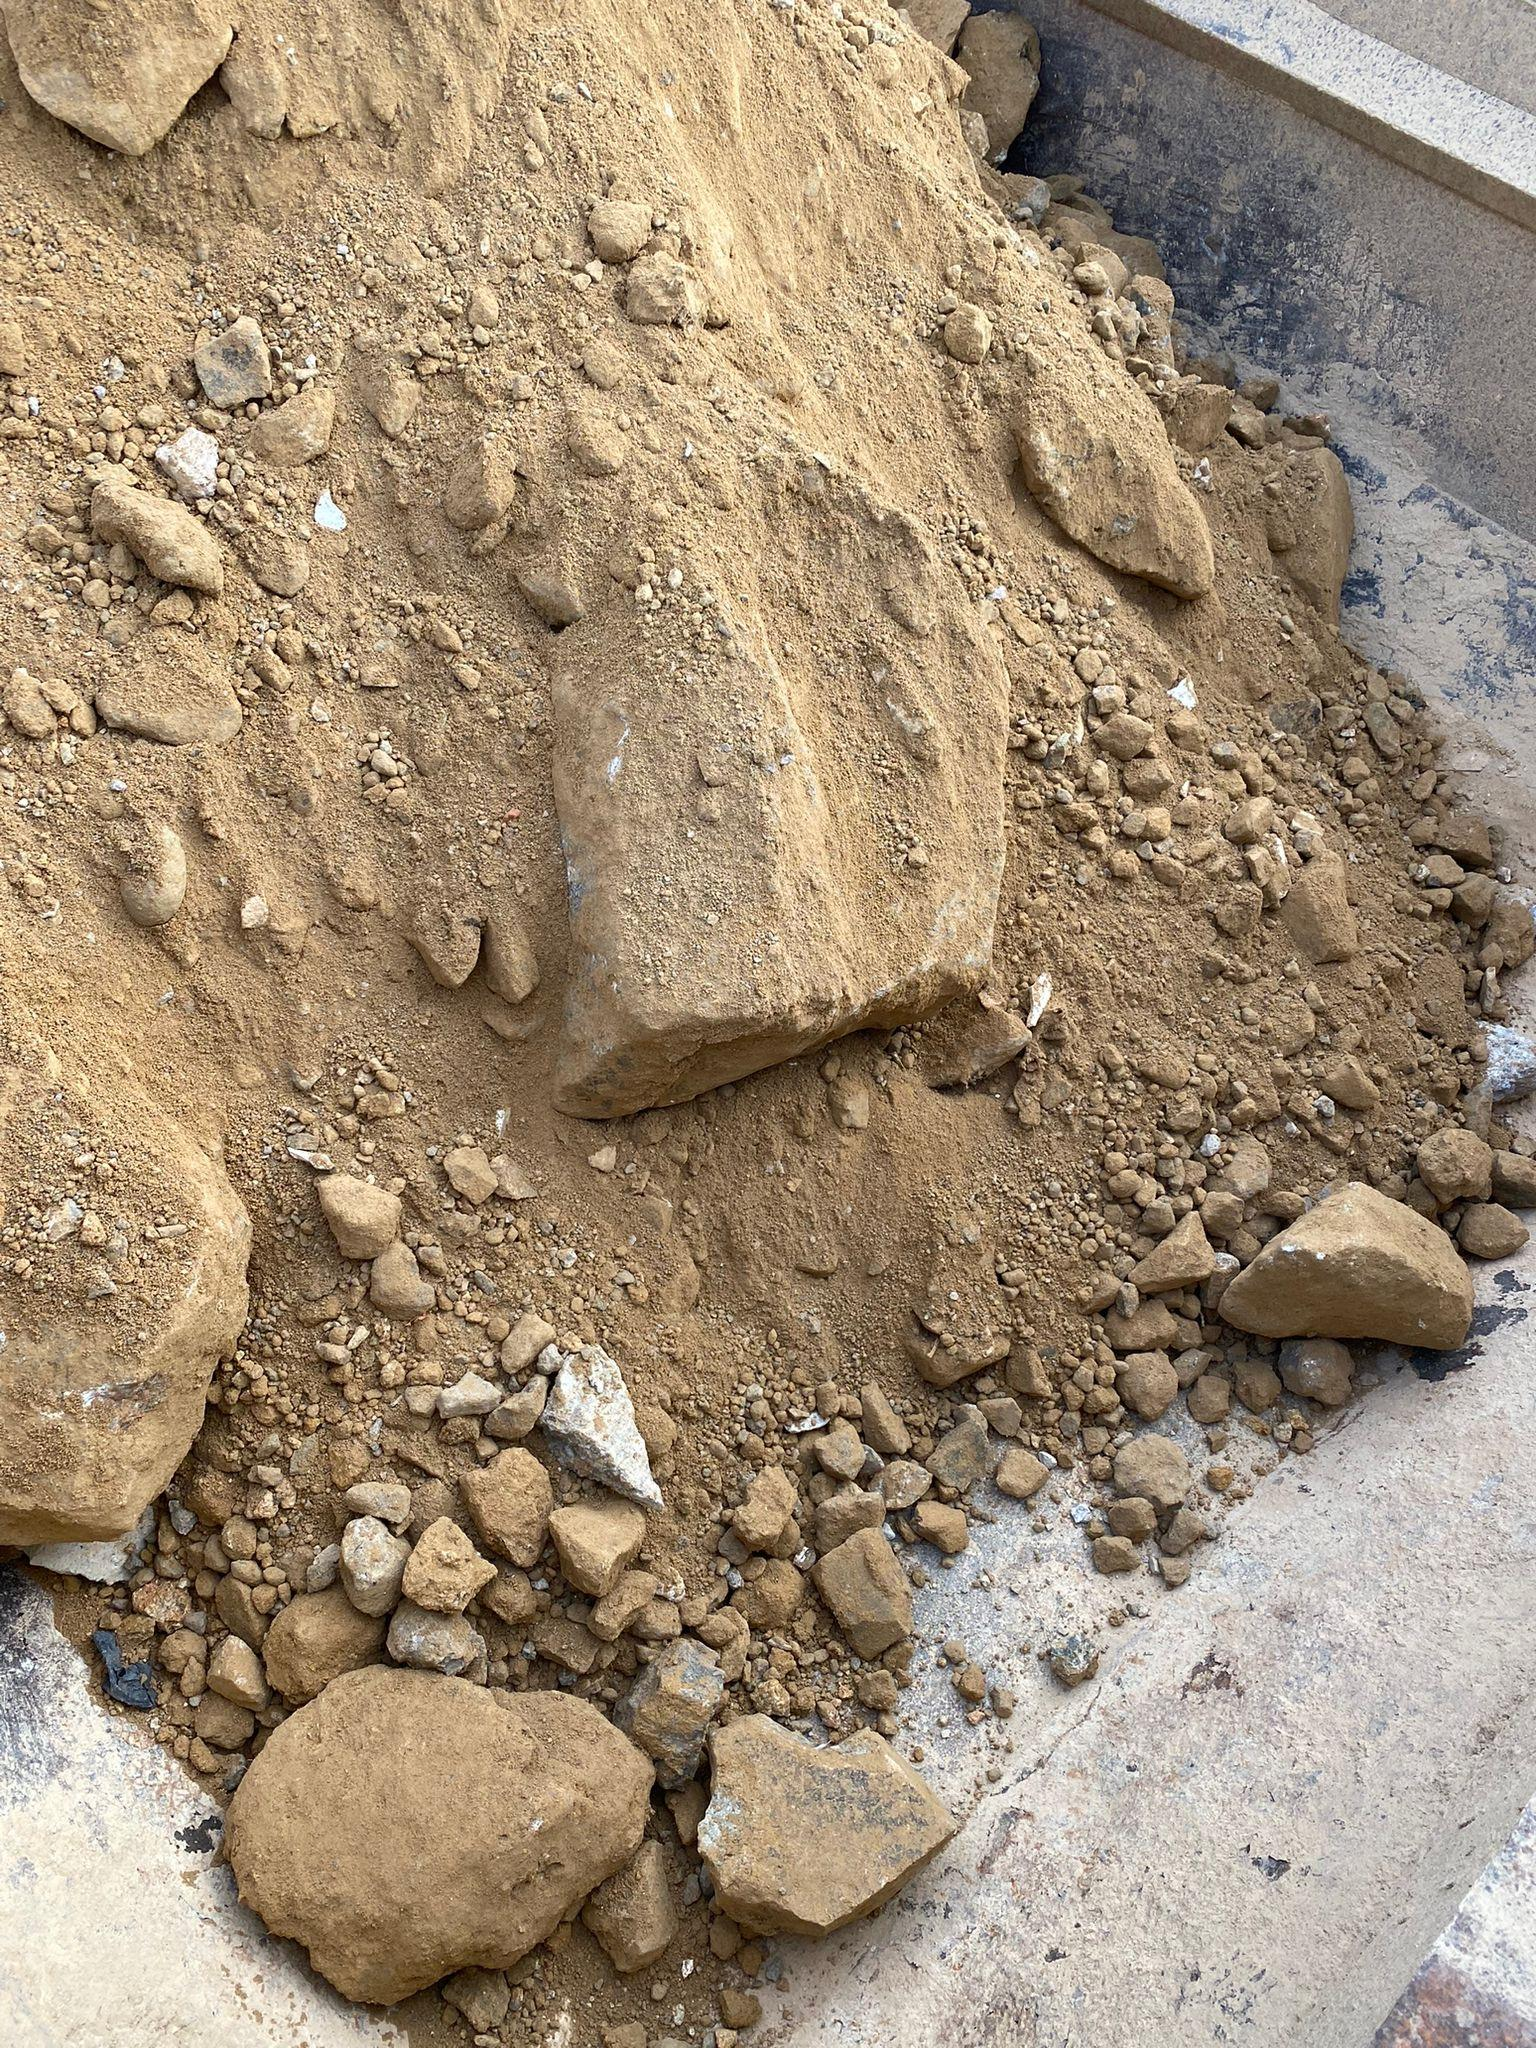dirt: (2, 1, 1531, 2042)
stone: (543, 446, 1012, 1121), (220, 1661, 658, 2007), (0, 1054, 253, 1547), (694, 1711, 960, 1939), (1217, 1178, 1474, 1352), (2, 0, 236, 158), (537, 1342, 664, 1510), (94, 629, 243, 745), (87, 480, 224, 595), (192, 314, 273, 408), (315, 1171, 403, 1257)
